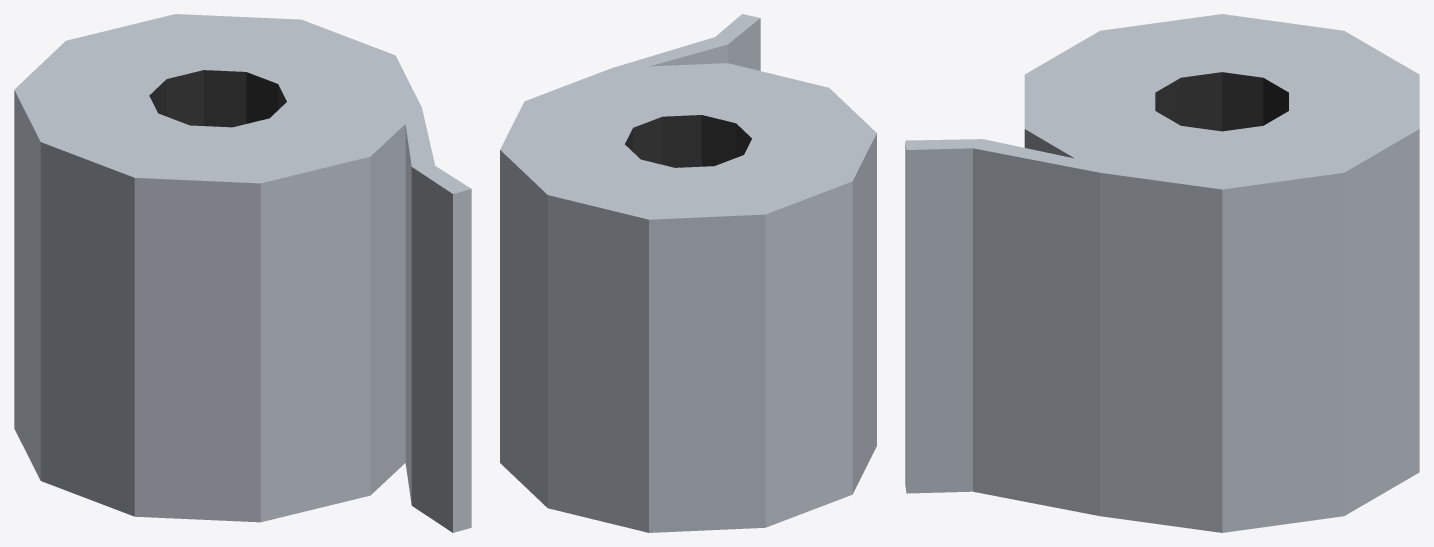
File: model_toilet_roll.fbx
3 renders of one model, left to right at view 1: azimuth 30°, elevation 25°; view 2: azimuth 150°, elevation 25°; view 3: azimuth 270°, elevation 25°, orthographic. The views are drawn at different scales.
Visible parts, largest first — view 1: model_toilet_roll; view 2: model_toilet_roll; view 3: model_toilet_roll.
Boxes of the visible parts, <box> form: model_toilet_roll: <box>14,14,471,532</box>; model_toilet_roll: <box>500,14,876,532</box>; model_toilet_roll: <box>905,14,1419,532</box>.
Bounding box in the file's own units: 23.4 × 21.35 × 28.98.
Materials: 1 (1 with a texture image).
